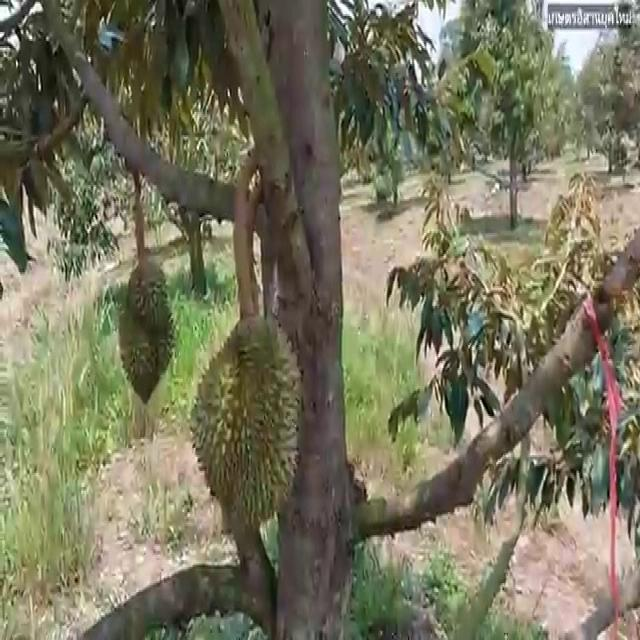durian: (185, 304, 309, 544), (116, 252, 179, 408)
